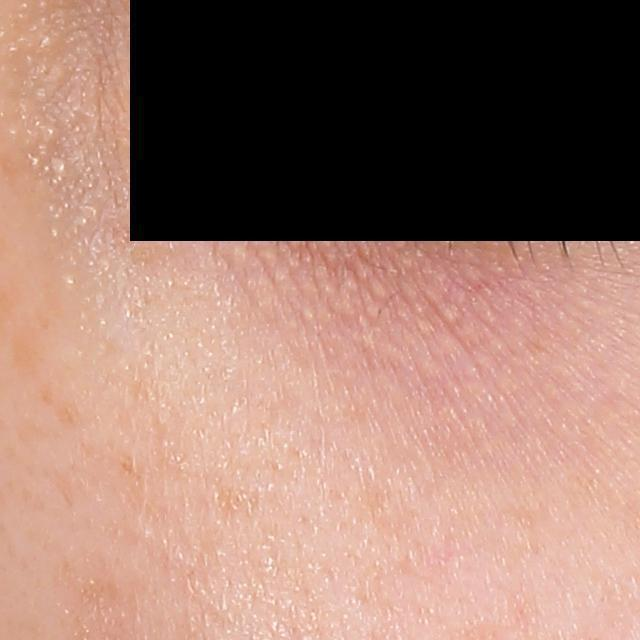melasma: (39, 382, 91, 437)
